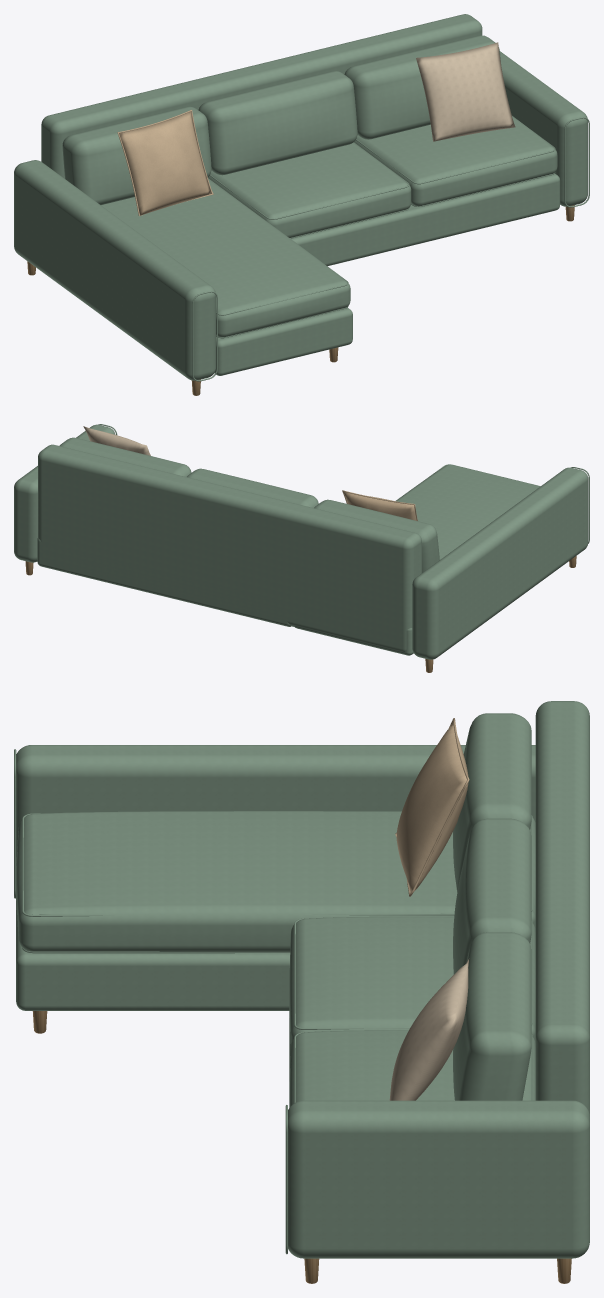
3 renders of one model, top to bottom at view 1: azimuth 30°, elevation 25°; view 2: azimuth 150°, elevation 25°; view 3: azimuth 270°, elevation 25°, orthographic. The views are drawn at different scales.
Visible parts, largest first — view 1: arm_left, seat_cushion_chaise, back_frame, back_cushion_1, seat_cushion_0, seat_cushion_1, plinth_main, scatter_cushion_1, back_cushion_2, scatter_cushion_0, arm_right, back_cushion_0 (+1 smaller); view 2: back_frame, arm_left, seat_cushion_chaise, plinth_main, arm_right, back_cushion_0, back_cushion_1, back_cushion_2, scatter_cushion_0, scatter_cushion_1, plinth_chaise; view 3: seat_cushion_chaise, arm_right, arm_left, back_frame, seat_cushion_0, plinth_chaise, back_cushion_2, seat_cushion_1, back_cushion_1, back_cushion_0, scatter_cushion_0, scatter_cushion_1 (+1 smaller).
Part boxes in pixels (x1,y1,x2,y2): arm_left: (14,160,215,380); seat_cushion_chaise: (101,179,350,337); back_frame: (41,14,482,178); back_cushion_1: (198,71,357,175); seat_cushion_0: (208,142,411,237); seat_cushion_1: (354,116,557,206); plinth_main: (291,173,560,266); scatter_cushion_1: (416,42,515,141); back_cushion_2: (344,35,501,139); scatter_cushion_0: (119,111,211,215); arm_right: (500,51,587,206); back_cushion_0: (62,106,211,204); back_frame: (38,444,421,651); arm_left: (412,467,588,659); seat_cushion_chaise: (395,464,540,559); plinth_main: (37,538,291,626); arm_right: (14,424,115,562); back_cushion_0: (314,499,439,572); back_cushion_1: (187,468,318,507); back_cushion_2: (59,437,191,476); scatter_cushion_0: (344,492,416,520); scatter_cushion_1: (83,426,150,455); plinth_chaise: (294,626,413,655); seat_cushion_chaise: (16,811,535,951); arm_right: (288,1100,589,1258); arm_left: (16,745,535,861); back_frame: (535,701,589,1115); seat_cushion_0: (289,916,535,1046); plinth_chaise: (16,862,290,1010); back_cushion_2: (453,932,531,1100); seat_cushion_1: (289,1030,535,1106); back_cushion_1: (453,818,531,974); back_cushion_0: (453,713,531,891); scatter_cushion_0: (396,722,468,892); scatter_cushion_1: (389,958,469,1100).
Size of the model in its own units: 2.8 by 0.85 by 1.8.
Materials: 4 (4 with a texture image).
